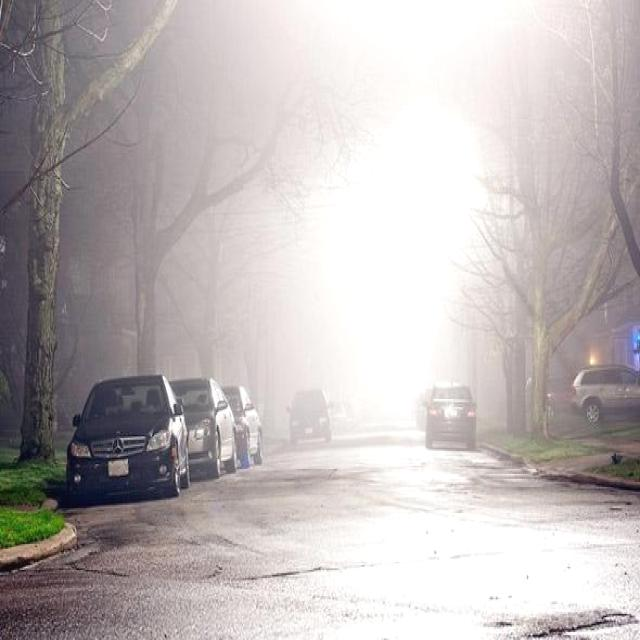Car: (65, 375, 192, 498), (158, 378, 239, 477), (568, 363, 640, 423), (218, 384, 264, 469), (423, 380, 478, 450), (285, 390, 335, 440)
